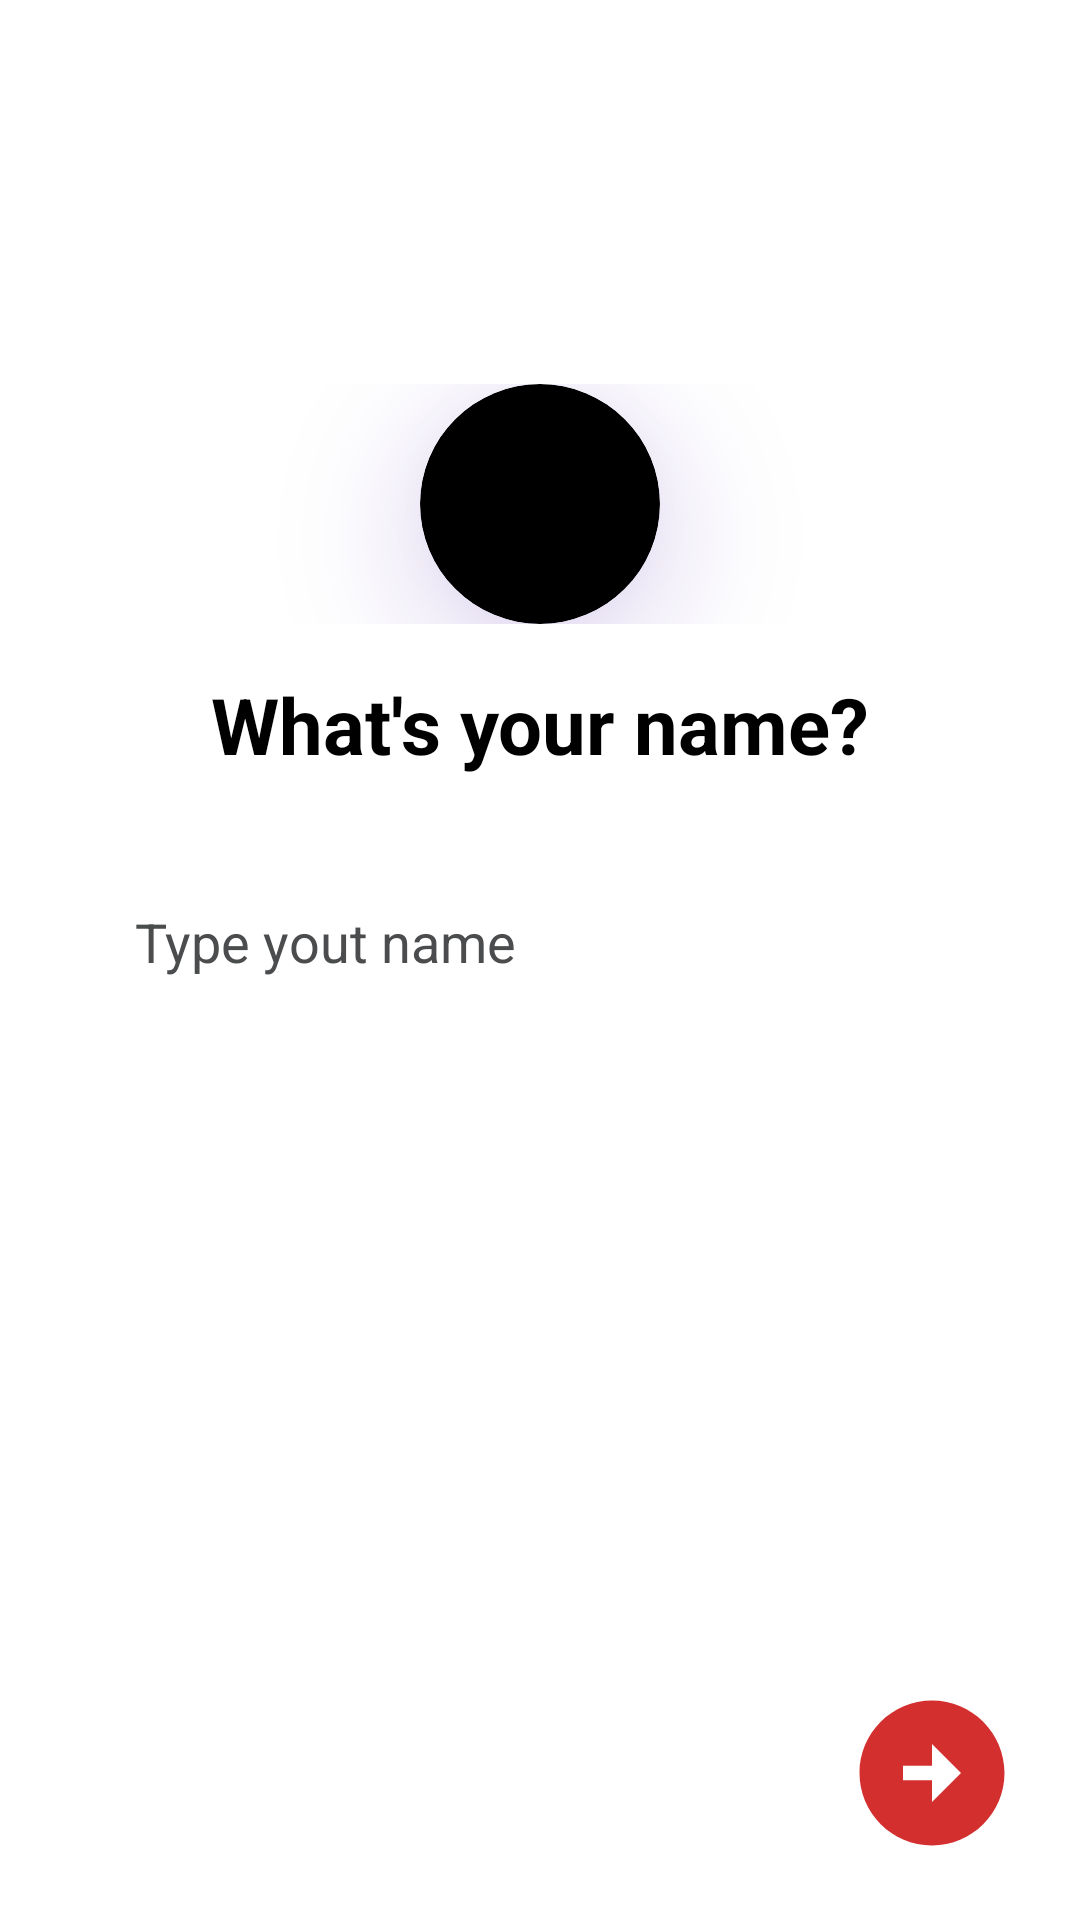

Where to tap for icons on this 1080×1920 app screen, as point (x, y):
arrow circle right: point (932, 1773)
